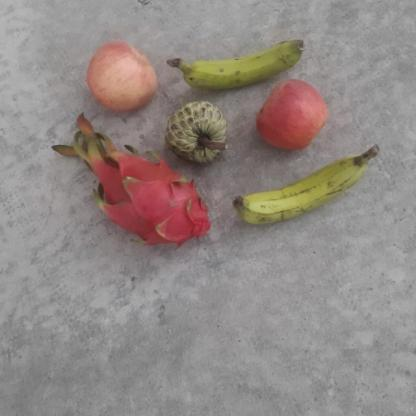annona: (165, 100, 233, 165)
apple: (256, 76, 332, 152), (86, 38, 160, 111)
banana: (230, 142, 370, 228), (180, 27, 306, 92)
pitaya: (93, 152, 213, 250)
